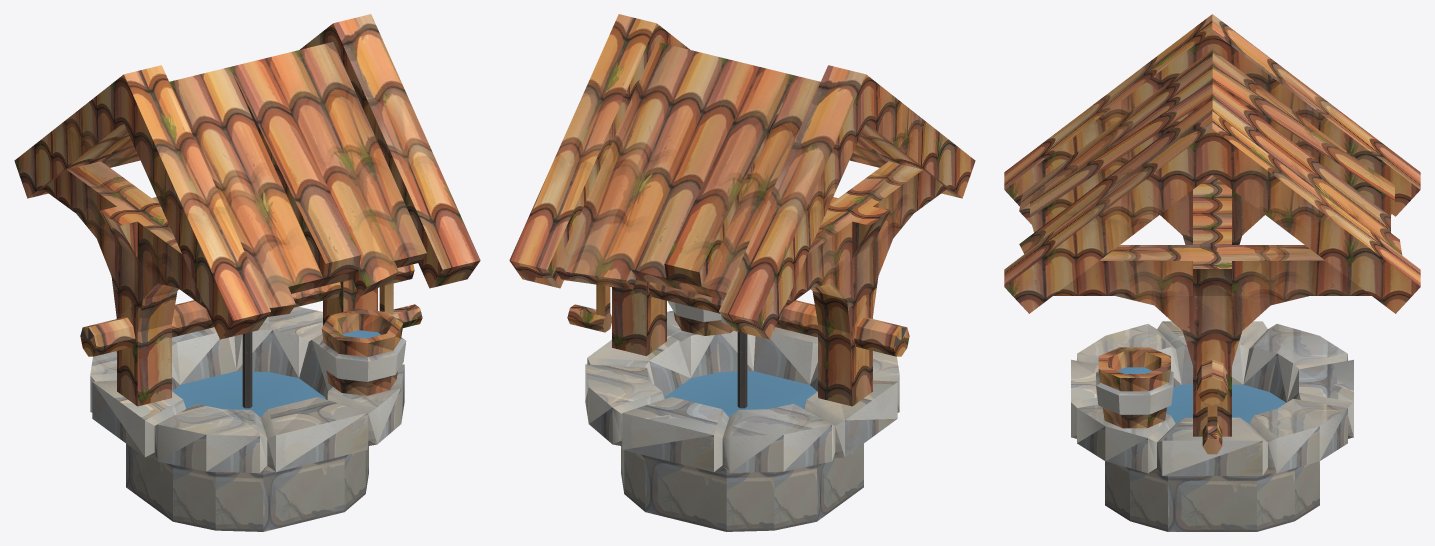
File: building_well_red.gltf
3 views of the same model, side by side, from view 1: azimuth 30°, elevation 25°; view 2: azimuth 150°, elevation 25°; view 3: azimuth 270°, elevation 25° (orthographic). The views are drawn at different scales.
Visible parts, largest first — view 1: building_well_red; view 2: building_well_red; view 3: building_well_red.
Boxes of the visible parts, x1,y1,x2,y2 form: building_well_red: [14, 14, 480, 531]; building_well_red: [509, 14, 975, 531]; building_well_red: [1004, 14, 1420, 531].
Size of the model in its own units: 0.6518 by 0.826 by 0.7507.
5 materials, 4 textured.
